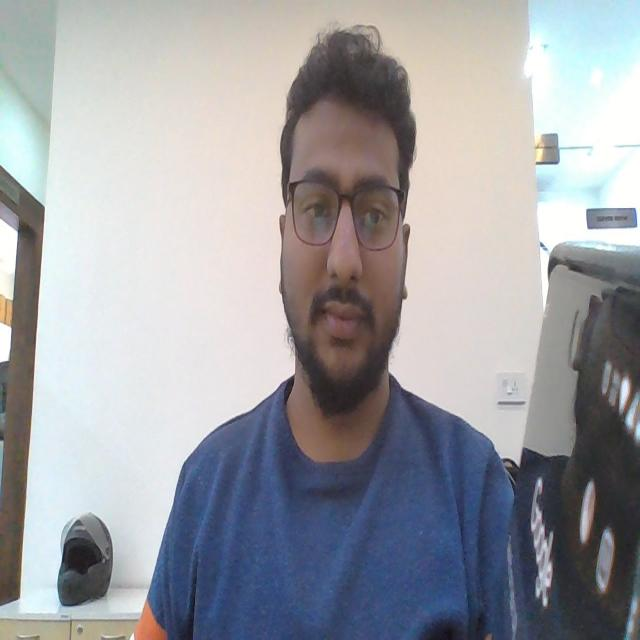phone: (491, 238, 637, 630)
